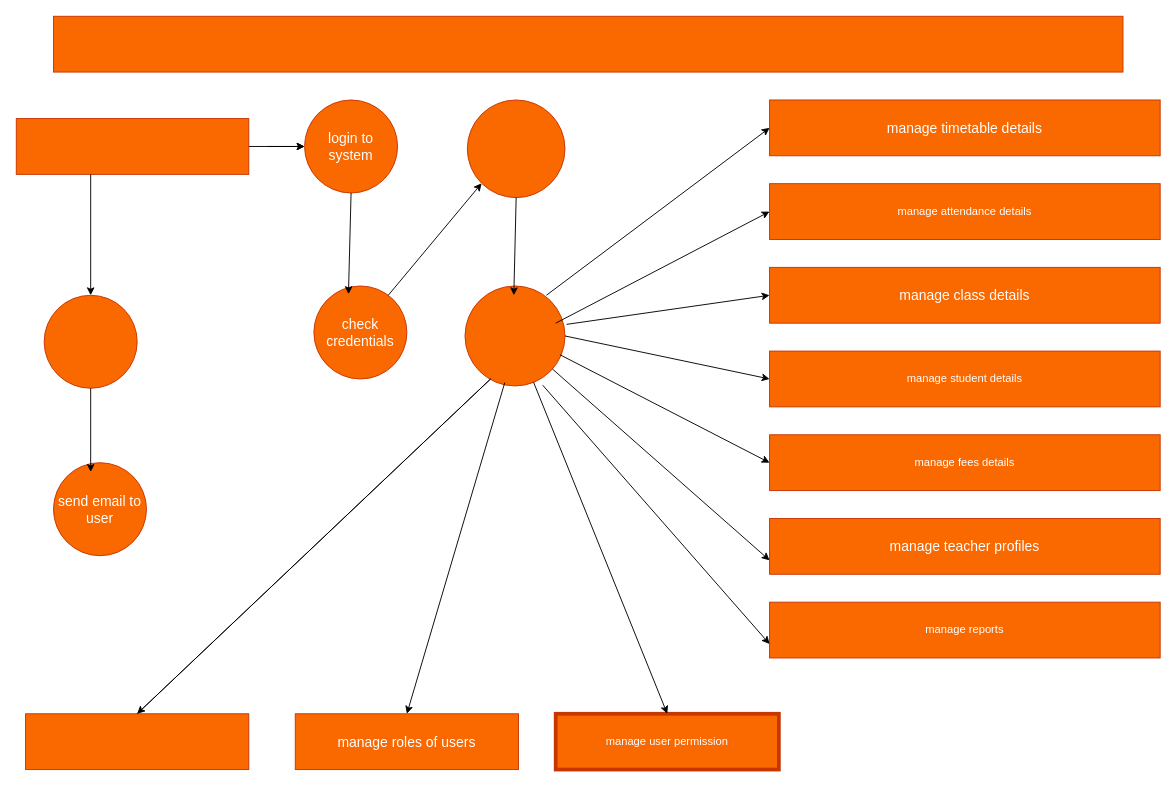
The diagram is 1176 pixels wide and 788 high, and some of its shapes have lost their labels. The shapes that lost their labels are listed below. From the top down, each one's box as (x1, y1, x2, y2) in pixels, then its label:
(53, 15, 1123, 72): Student information system
(15, 118, 249, 174): admin
(466, 99, 565, 198): check roles of acess
(43, 294, 137, 388): forget password
(464, 285, 565, 386): manage modules
(25, 713, 249, 770): manage system admins
